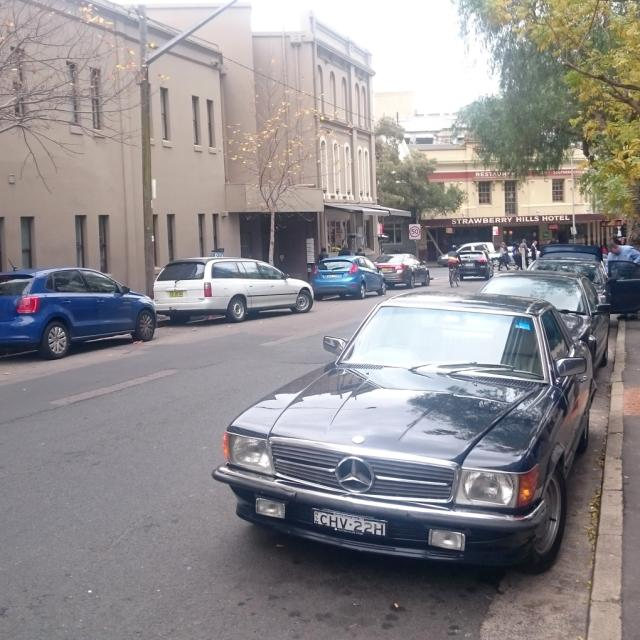car: (221, 286, 600, 581)
